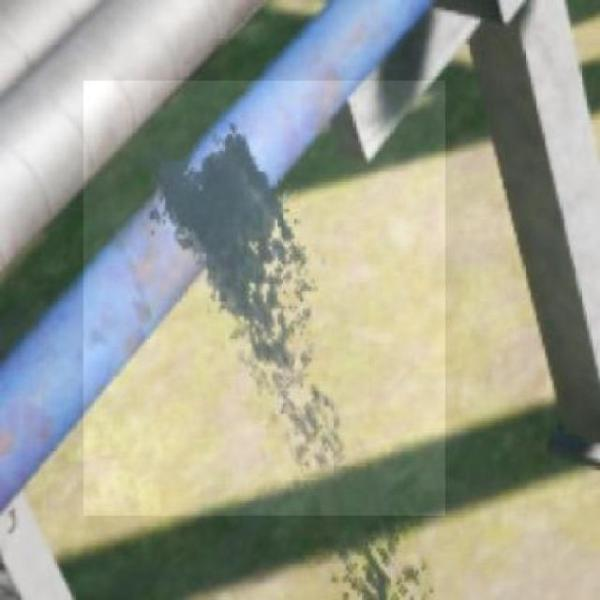gas: (84, 80, 445, 516)
